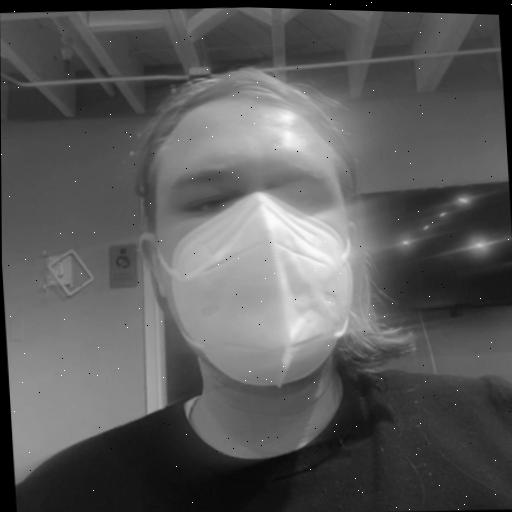mask: (112, 43, 441, 476)
